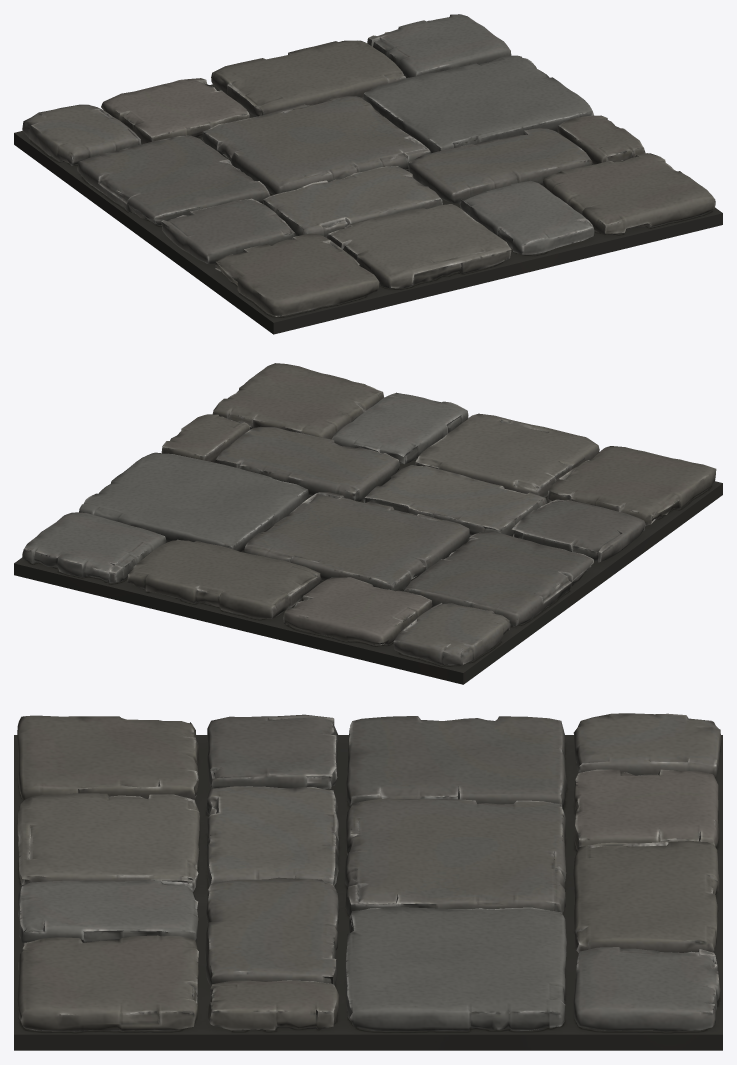
File: gallows_floor_tile.glb
3 renders of one model, top to bottom at view 1: azimuth 30°, elevation 25°; view 2: azimuth 150°, elevation 25°; view 3: azimuth 270°, elevation 25°, orthographic. The views are drawn at different scales.
Parts seen in each view (by area): view 1: gallows_floor_tile; view 2: gallows_floor_tile; view 3: gallows_floor_tile.
Part boxes in pixels (x1,y1,x2,y2): gallows_floor_tile: (14, 14, 722, 334); gallows_floor_tile: (14, 363, 722, 684); gallows_floor_tile: (14, 713, 722, 1050).
Bounding box in the file's own units: 4 × 0.2625 × 4.
Materials: 1 (1 with a texture image).
